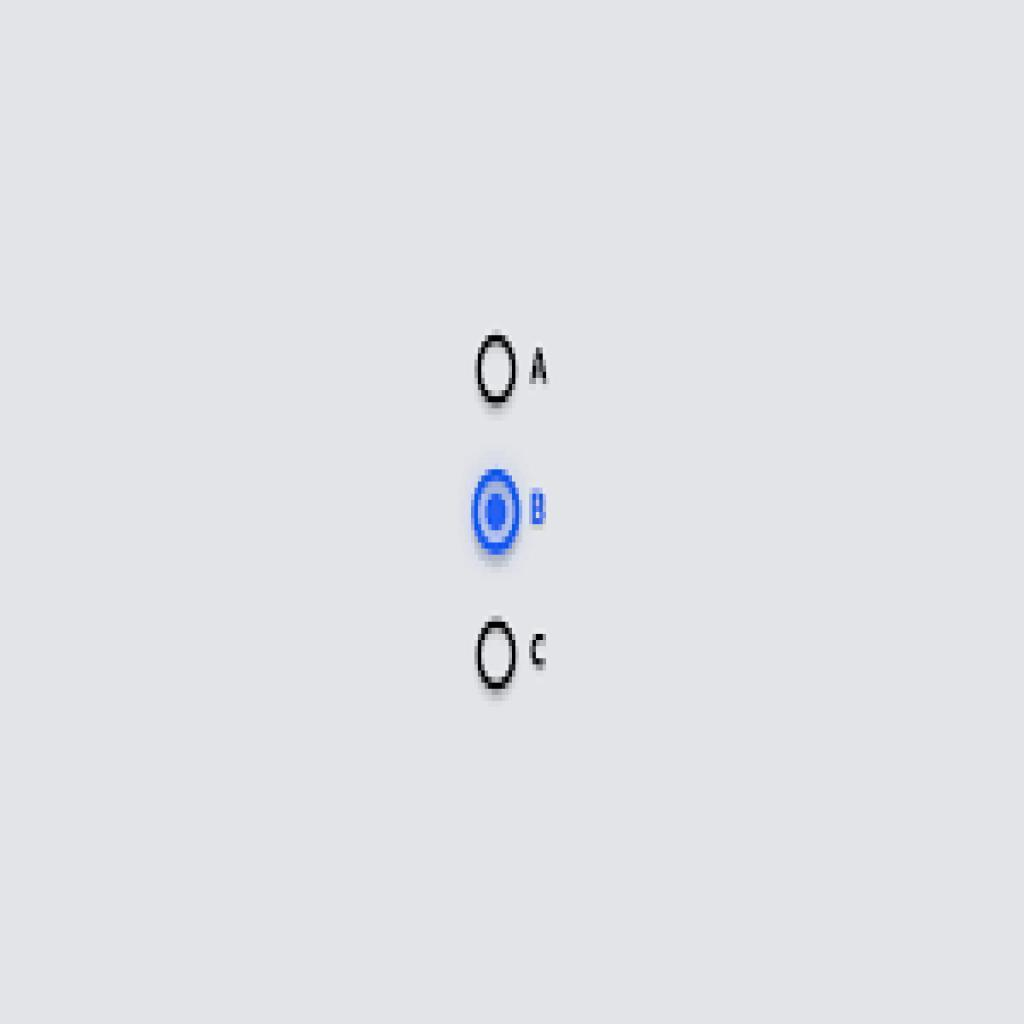radio: (472, 469, 523, 560), (471, 609, 521, 697), (474, 331, 521, 410)
